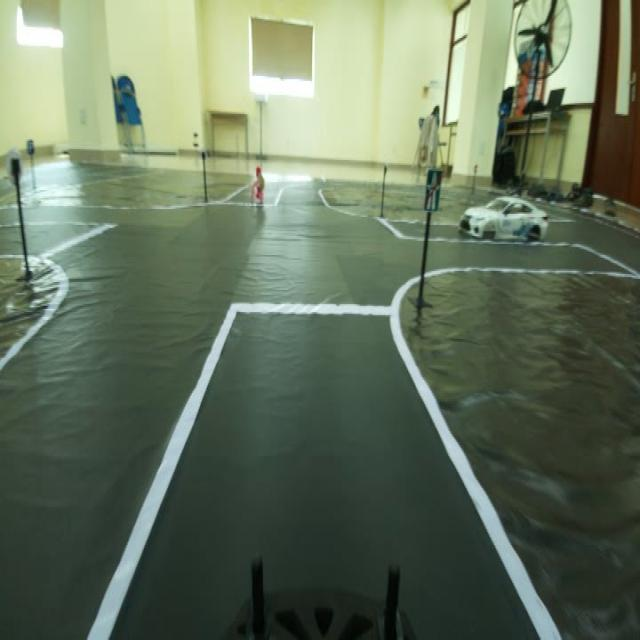highway_exit: (417, 168, 447, 215)
